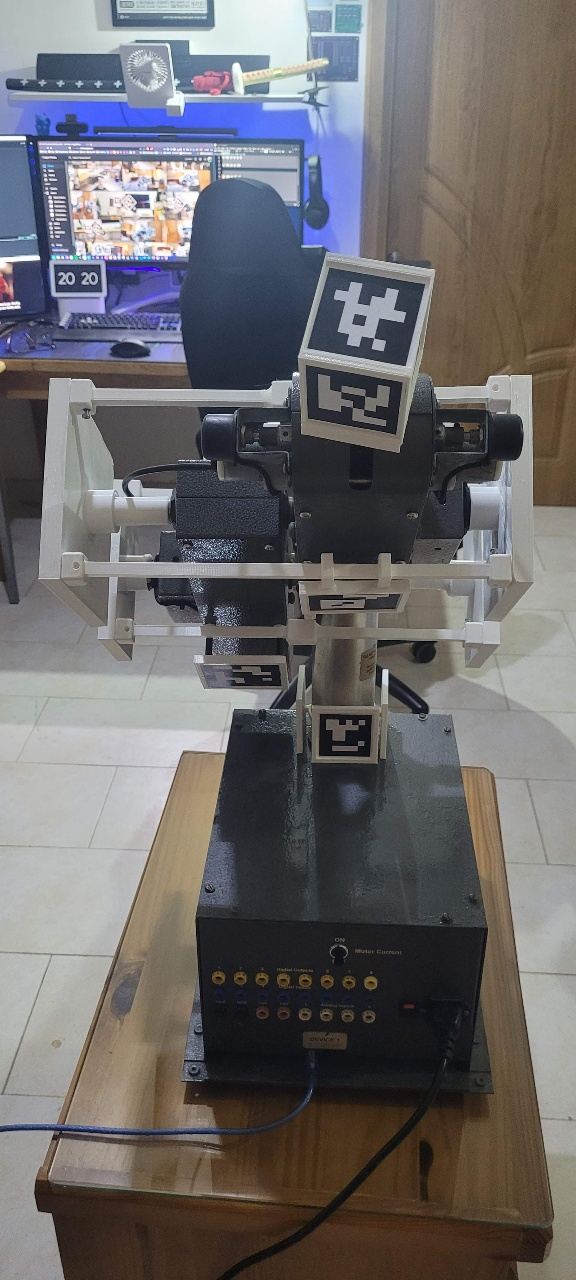Robot: (33, 251, 538, 770)
